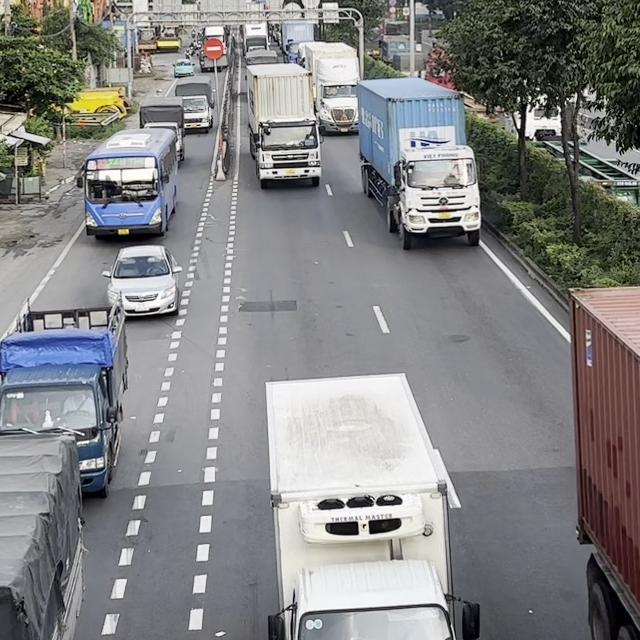bus: (78, 126, 179, 238)
car: (101, 244, 183, 317)
truck: (264, 371, 480, 639), (0, 294, 129, 498), (567, 283, 639, 639), (356, 76, 482, 250), (0, 429, 86, 639), (245, 62, 322, 188), (297, 40, 361, 135), (138, 96, 185, 162), (175, 77, 213, 133), (279, 19, 317, 63)
